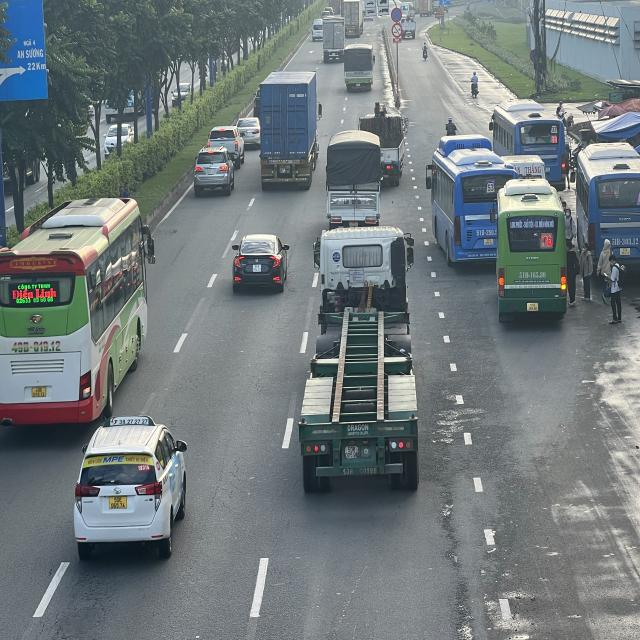car: (75, 418, 192, 559), (232, 235, 291, 294), (194, 147, 240, 194)
coach: (3, 196, 156, 430), (424, 133, 518, 269), (499, 178, 572, 320), (574, 145, 638, 305), (490, 100, 566, 163)
container: (304, 225, 422, 488), (258, 72, 320, 192)
truck: (325, 129, 382, 228), (343, 45, 375, 93)
